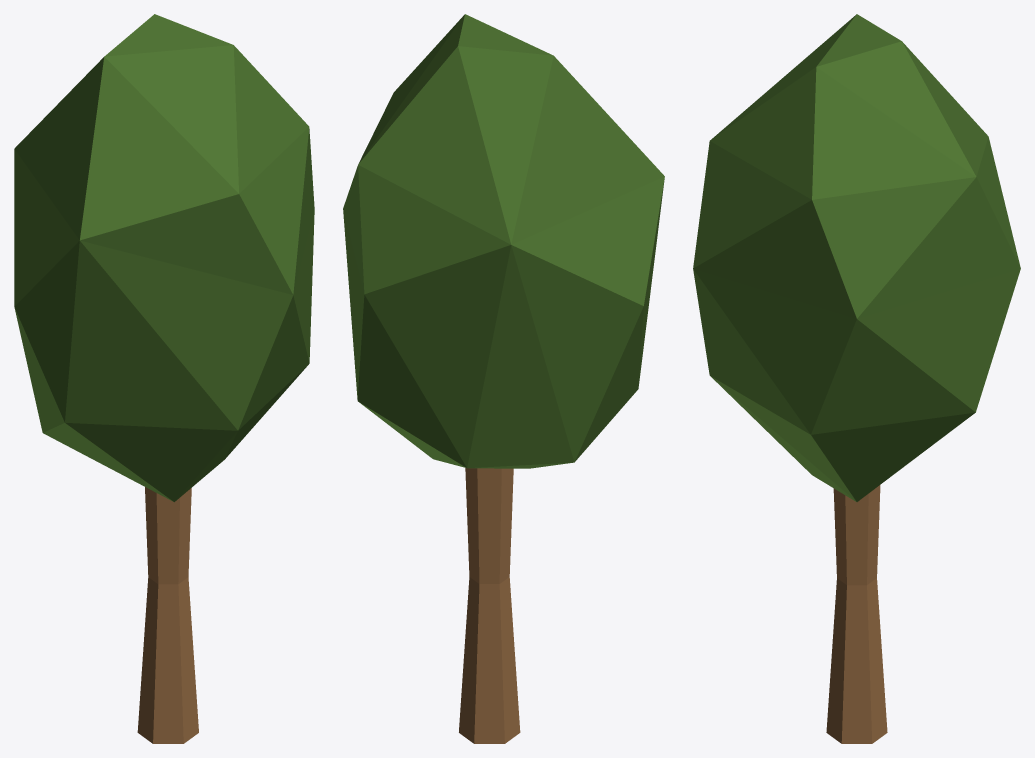
Rendered from tree_002.fbx.
3 renders of one model, left to right at view 1: azimuth 30°, elevation 25°; view 2: azimuth 150°, elevation 25°; view 3: azimuth 270°, elevation 25°, orthographic.
Parts seen in each view (by area): view 1: Icosphere.001; view 2: Icosphere.001; view 3: Icosphere.001.
Boxes of the visible parts, <box> form: Icosphere.001: <box>14,14,314,743</box>; Icosphere.001: <box>343,14,664,743</box>; Icosphere.001: <box>693,14,1020,743</box>.
Size of the model in its own units: 2.09 by 4.65 by 1.99.
